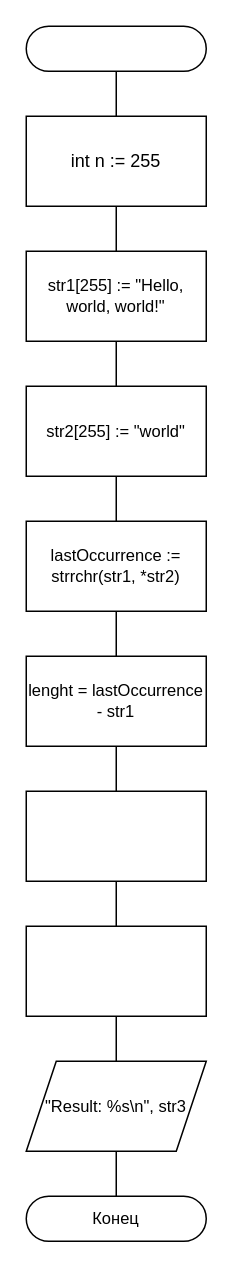
Image size: 233x1268. Some labels were removed from this diagram. Here are the shapes that lost their labels. From the top down, the box of each, then its label:
(25, 25, 206, 71): Начало
(25, 790, 206, 881): memset(str3, '\0', n)
(25, 925, 206, 1016): strncpy(str3, str1, lenght)
